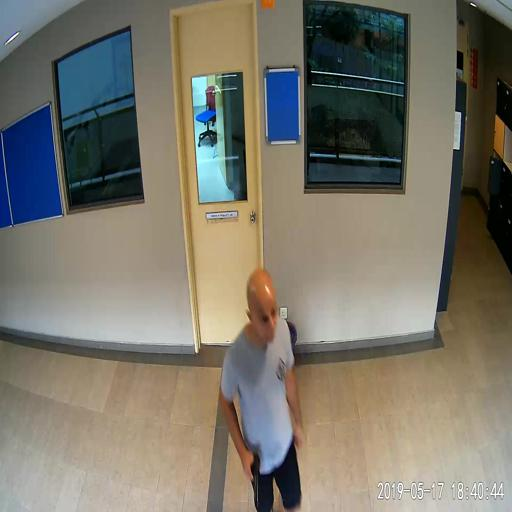pistol: (246, 451, 260, 505)
